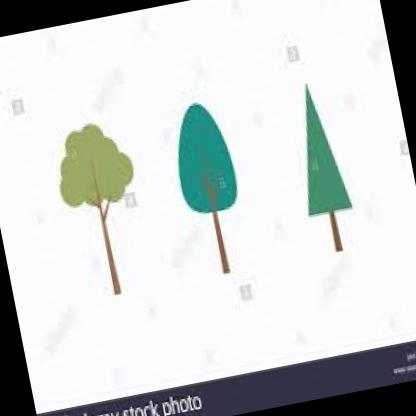crown_cloud: (48, 115, 139, 214)
trunk_straight: (98, 226, 123, 278)
